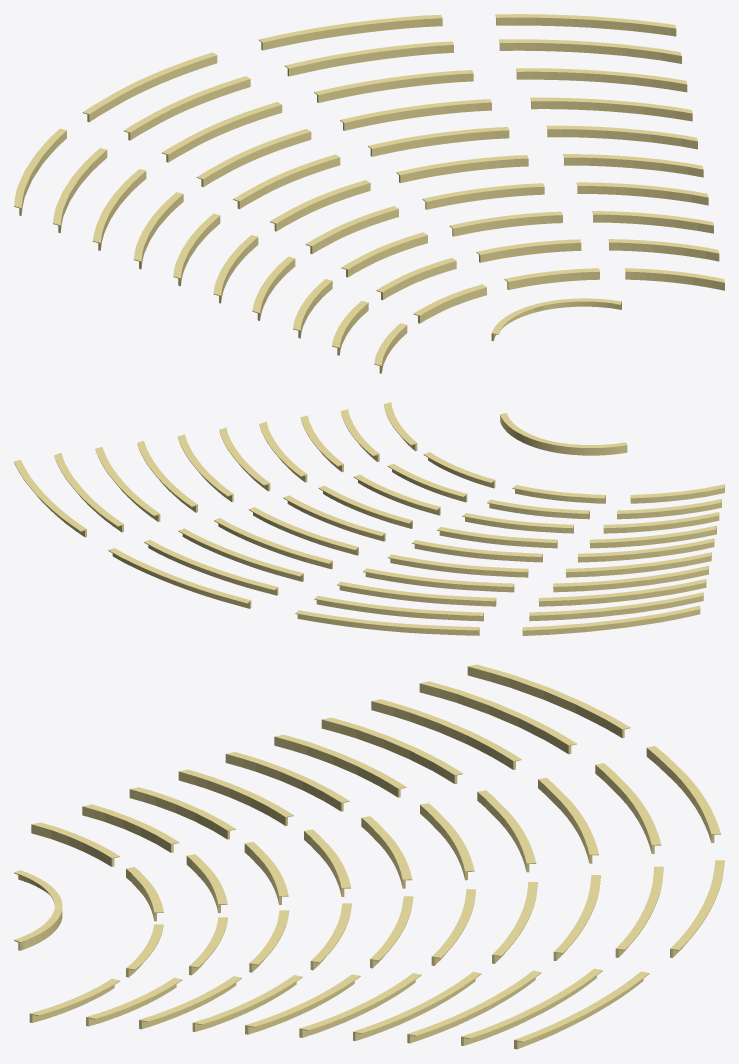
The model's file is mesa .fbx.
3 views of the same model, one above another, from view 1: azimuth 30°, elevation 25°; view 2: azimuth 150°, elevation 25°; view 3: azimuth 270°, elevation 25° (orthographic). The views are drawn at different scales.
Visible parts, largest first — view 1: Cube.040; view 2: Cube.040; view 3: Cube.040.
Part boxes in pixels (left/top/right/bottom): Cube.040: left=14, top=14, right=724, bottom=373; Cube.040: left=14, top=402, right=724, bottom=635; Cube.040: left=14, top=664, right=724, bottom=1049.
Size of the model in its own units: 35786 by 3291 by 28536.
1 material, 1 textured.
